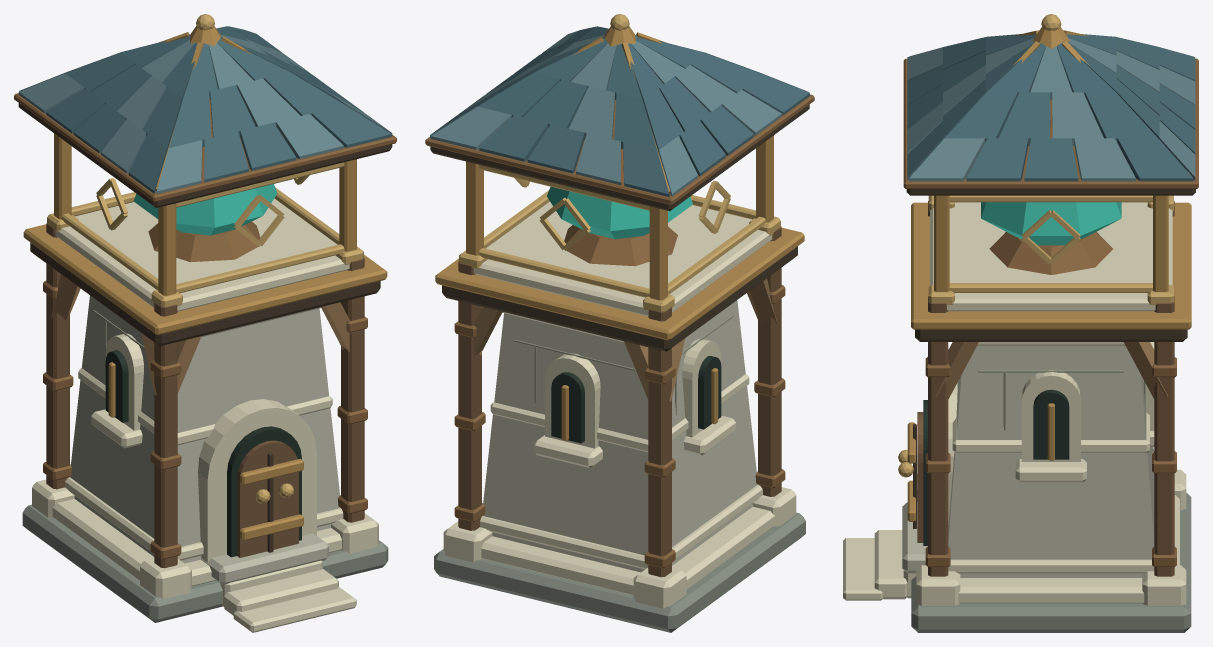
File: d_lantern.glb
3 views of the same model, side by side, from view 1: azimuth 30°, elevation 25°; view 2: azimuth 150°, elevation 25°; view 3: azimuth 270°, elevation 25° (orthographic). The views are drawn at different scales.
Parts seen in each view (by area): view 1: Stone, Roof, Metal, Timber, Glow; view 2: Stone, Roof, Metal, Timber, Glow; view 3: Stone, Roof, Metal, Timber, Glow.
Boxes of the visible parts, left/top/right/bottom form: Stone: left=22, top=198, right=388, bottom=632; Roof: left=18, top=26, right=392, bottom=193; Metal: left=14, top=14, right=396, bottom=559; Timber: left=18, top=103, right=392, bottom=568; Glow: left=133, top=184, right=277, bottom=235; Stone: left=434, top=201, right=805, bottom=632; Roof: left=430, top=26, right=809, bottom=196; Metal: left=425, top=14, right=814, bottom=568; Timber: left=430, top=104, right=809, bottom=577; Glow: left=547, top=187, right=692, bottom=239; Stone: left=843, top=202, right=1191, bottom=632; Roof: left=907, top=34, right=1195, bottom=181; Metal: left=898, top=14, right=1198, bottom=566; Timber: left=906, top=189, right=1195, bottom=576; Glow: left=981, top=202, right=1121, bottom=245.
Bounding box in the file's own units: 2.03 × 4.26 × 2.45.
